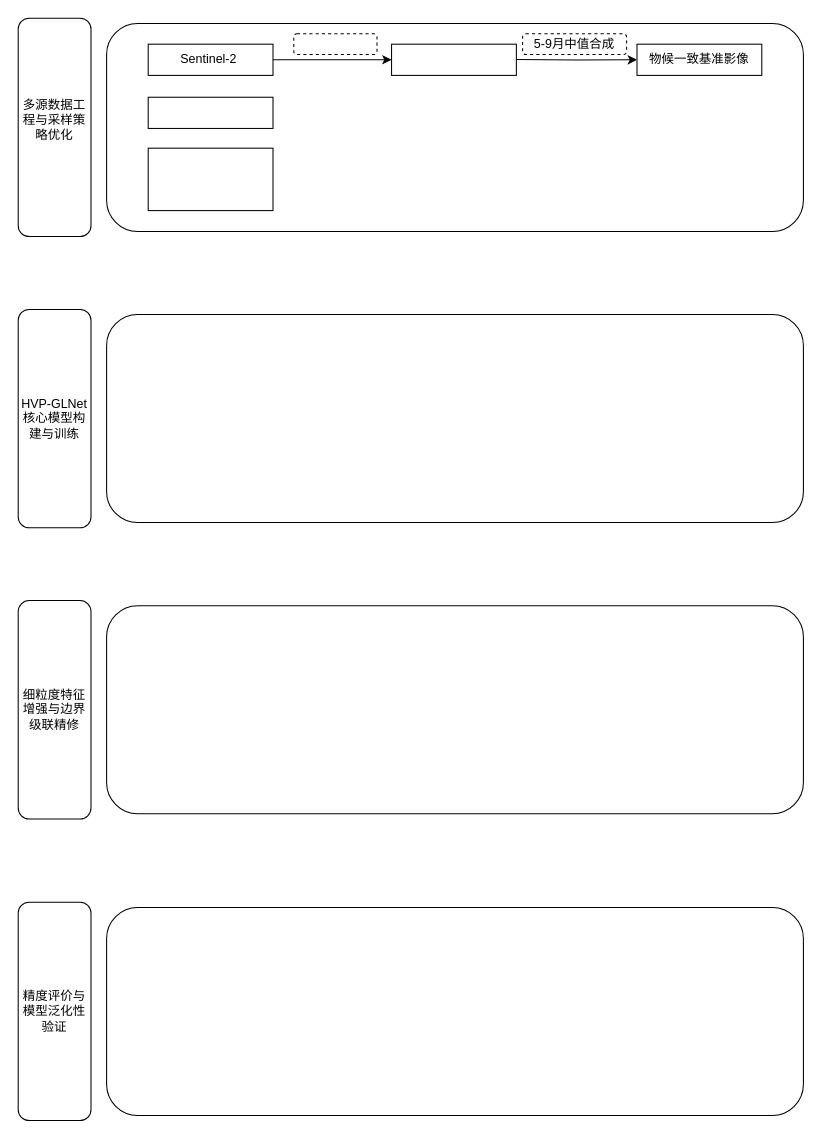
This 822x1139 diagram has some shape labels left out. Here are the shapes that lost their labels. From the top down, the box of each, then its label:
(293, 33, 377, 55): 去云处理
(391, 43, 516, 75): 纯净影像
(147, 96, 273, 128): Sentinel-1 SAR
(147, 147, 273, 211): 2米历史矢量数据
